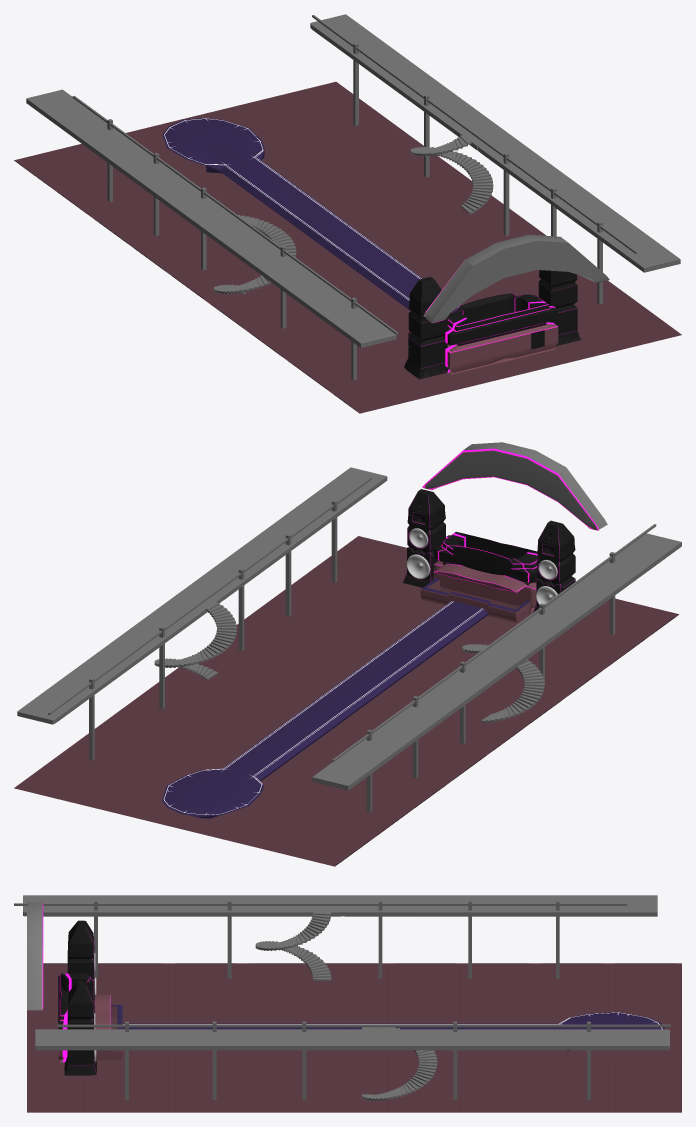
File: KLUBWithoutRoboClub.fbx
The picture shows the model from 3 angles, top to bottom: view 1: azimuth 30°, elevation 25°; view 2: azimuth 150°, elevation 25°; view 3: azimuth 270°, elevation 25°; orthographic projection. The views are drawn at different scales.
Parts seen in each view (by area): view 1: floor_Baked, dancingCube_Baked, RampL.001_Baked, RampL.001_Baked.001, RampL.001_Baked.003, RampL.001_Baked.002, gamePadWall_Baked, dj_up_Baked, dj_down_Baked, RightSpeaker.001_Baked.001, RightSpeaker.001_Baked, stairs_Baked.002 (+3 smaller); view 2: floor_Baked, dancingCube_Baked, RampL.001_Baked.001, RampL.001_Baked, RampL.001_Baked.002, RampL.001_Baked.003, gamePadWall_Baked, dj_up_Baked, dj_down_Baked, RightSpeaker.001_Baked, RightSpeaker.001_Baked.001, stairs_Baked.002 (+4 smaller); view 3: floor_Baked, RampL.001_Baked.002, RampL.001_Baked.003, RampL.001_Baked.001, RampL.001_Baked, dancingCube_Baked, filar.001_Baked.001, RightSpeaker.001_Baked, gamePadWall_Baked, filar.001_Baked, stairs_Baked, RightSpeaker.001_Baked.001 (+6 smaller).
Boxes of the visible parts, box(x1,y1,x2,y2) form: floor_Baked: box(14, 81, 681, 413); dancingCube_Baked: box(162, 118, 459, 311); RampL.001_Baked: box(193, 212, 396, 347); RampL.001_Baked.001: box(26, 89, 227, 224); RampL.001_Baked.003: box(477, 137, 680, 272); RampL.001_Baked.002: box(310, 14, 513, 150); gamePadWall_Baked: box(423, 234, 609, 323); dj_up_Baked: box(443, 293, 558, 345); dj_down_Baked: box(445, 321, 558, 374); RightSpeaker.001_Baked.001: box(404, 277, 448, 379); RightSpeaker.001_Baked: box(538, 270, 581, 345); stairs_Baked.002: box(410, 135, 493, 214); floor_Baked: box(14, 536, 678, 866); dancingCube_Baked: box(162, 601, 488, 818); RampL.001_Baked.001: box(312, 656, 514, 790); RampL.001_Baked: box(479, 533, 681, 668); RampL.001_Baked.002: box(17, 589, 220, 724); RampL.001_Baked.003: box(185, 467, 387, 601); gamePadWall_Baked: box(422, 442, 607, 530); dj_up_Baked: box(433, 531, 538, 582); dj_down_Baked: box(433, 561, 536, 612); RightSpeaker.001_Baked: box(403, 489, 445, 587); RightSpeaker.001_Baked.001: box(533, 520, 575, 612); stairs_Baked.002: box(154, 602, 236, 680); floor_Baked: box(27, 963, 681, 1112); RampL.001_Baked.002: box(351, 1029, 669, 1050); RampL.001_Baked.003: box(35, 1029, 351, 1050); RampL.001_Baked.001: box(341, 895, 657, 916); RampL.001_Baked: box(23, 895, 341, 916); dancingCube_Baked: box(123, 1012, 665, 1050); filar.001_Baked.001: box(57, 1024, 670, 1027); RightSpeaker.001_Baked: box(64, 980, 96, 1075); gamePadWall_Baked: box(27, 902, 43, 1010); filar.001_Baked: box(14, 903, 627, 905); stairs_Baked: box(255, 912, 331, 981); RightSpeaker.001_Baked.001: box(67, 920, 94, 978).
Size of the model in its own units: 8416 by 3336 by 15763.
